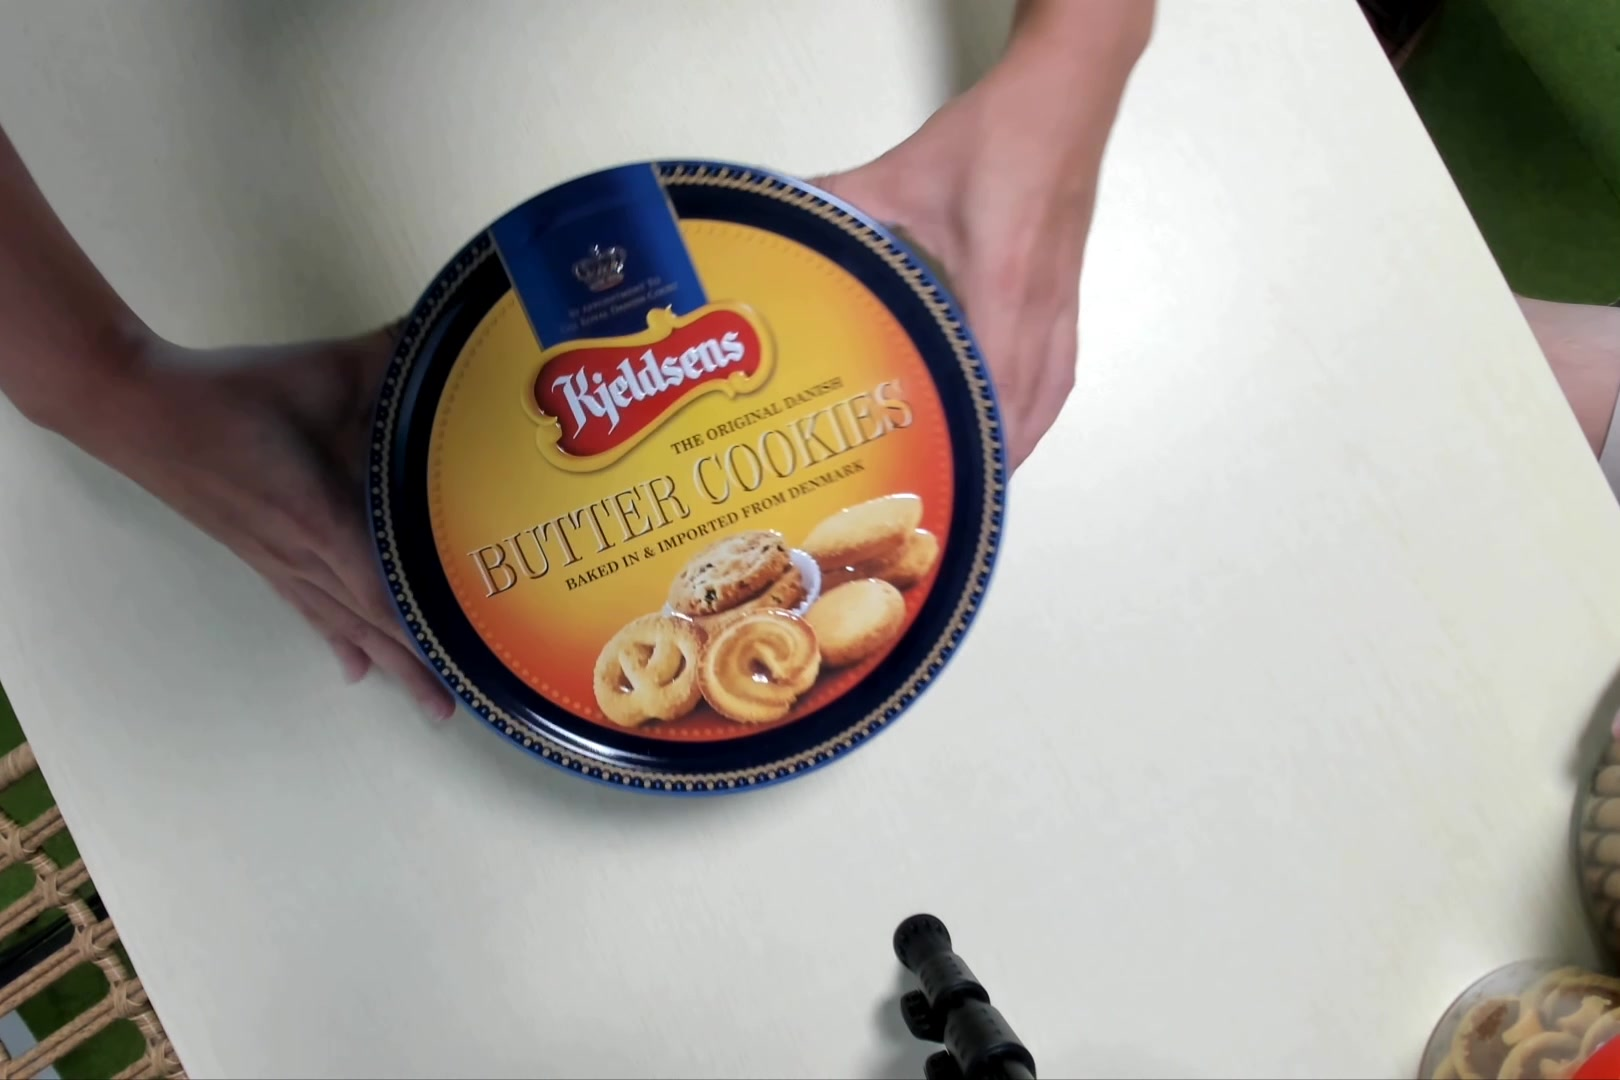BiscuitsCrackersCookies_400-499g_Halal_NonHealthy: (381, 149, 1006, 812)
